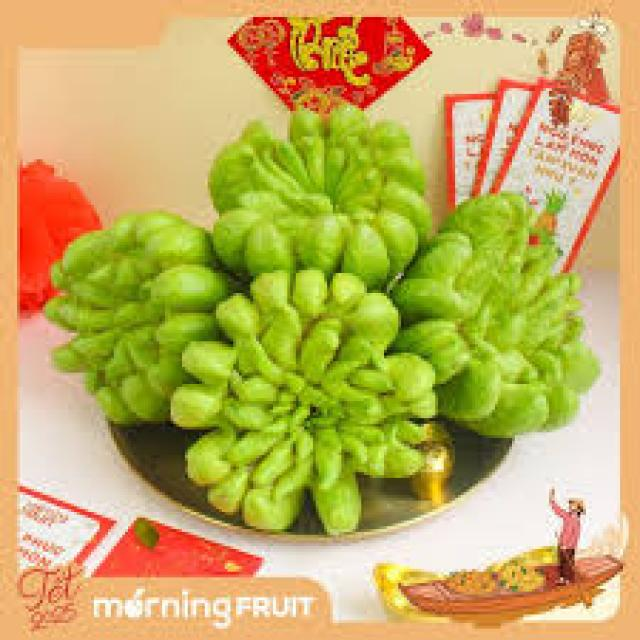PhatThu: (174, 268, 431, 538), (415, 197, 601, 443), (201, 108, 415, 290), (40, 208, 214, 428)
